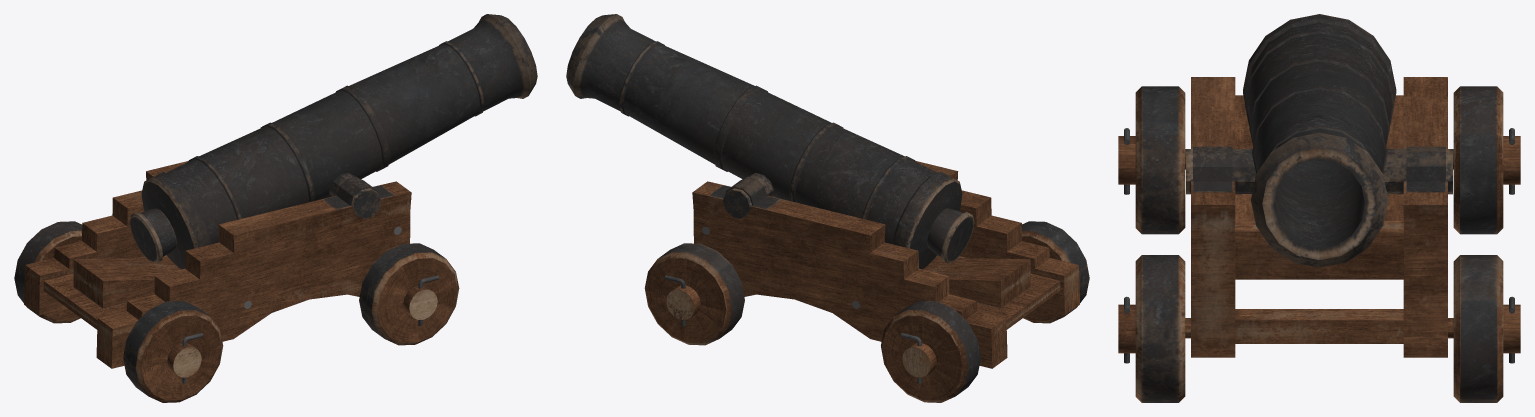
Rendered from Cannon.fbx.
3 views of the same model, side by side, from view 1: azimuth 30°, elevation 25°; view 2: azimuth 150°, elevation 25°; view 3: azimuth 270°, elevation 25° (orthographic). The views are drawn at different scales.
Visible parts, largest first — view 1: Cannon; view 2: Cannon; view 3: Cannon.
Boxes of the visible parts, <box> form: Cannon: <box>14,14,537,402</box>; Cannon: <box>566,14,1089,402</box>; Cannon: <box>1118,14,1520,402</box>.
Size of the model in its own units: 292 by 152 by 152.
1 material, 1 textured.
